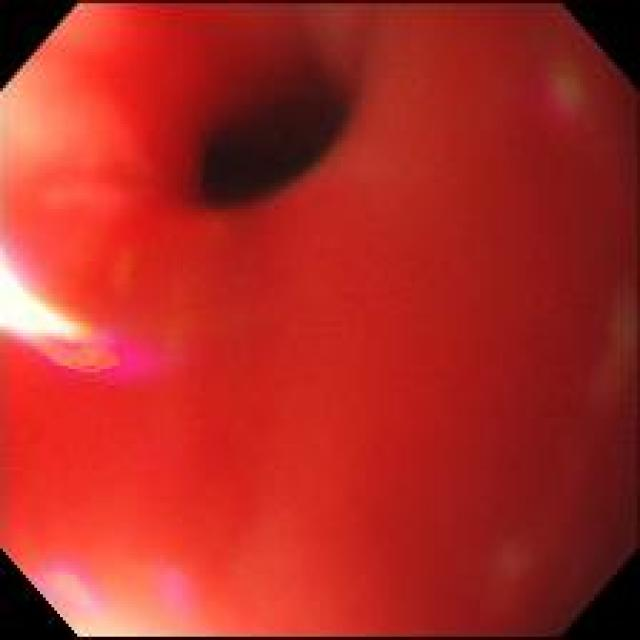blur: (1, 2, 638, 636)
color misalignment: (11, 312, 169, 392), (156, 560, 190, 617), (47, 562, 91, 604)
contrast: (188, 59, 358, 210)
saturation: (72, 613, 159, 634)
specularity: (2, 261, 70, 339)
